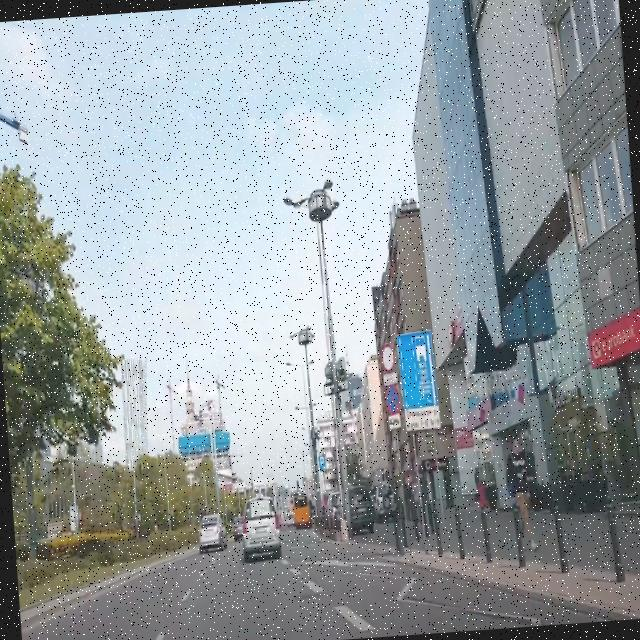Zakaz ruchu w obu kierunkach: (379, 341, 396, 371)
Zakaz zatrzymywania sie: (384, 386, 401, 413)
